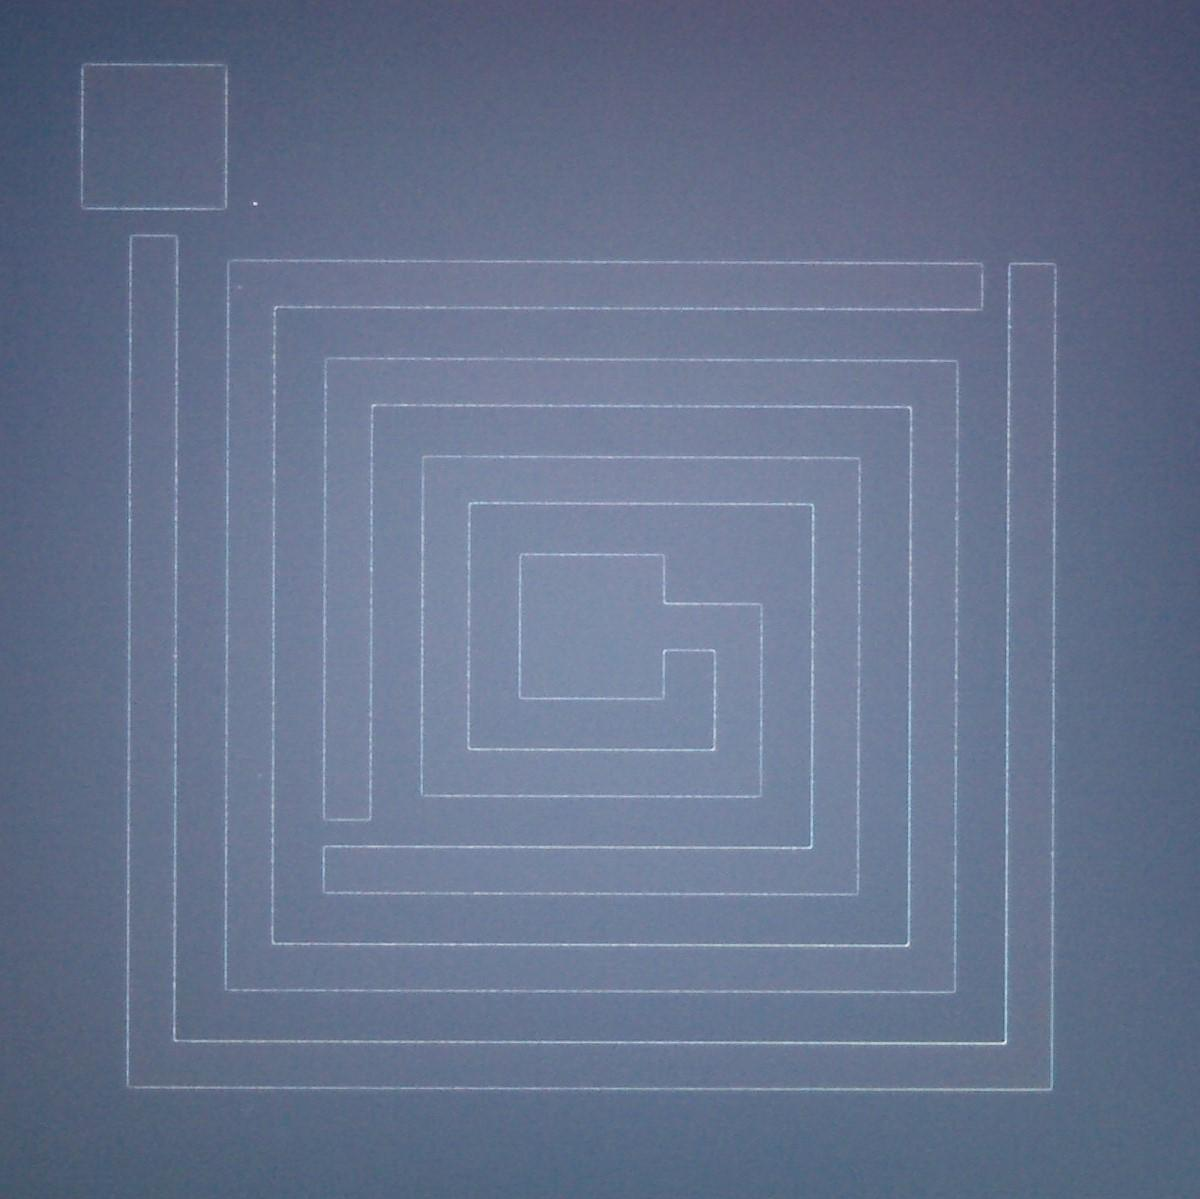cut: (67, 191, 236, 251), (961, 242, 1074, 325), (309, 793, 384, 908)
s_point: (235, 282, 245, 294), (250, 199, 261, 209)
